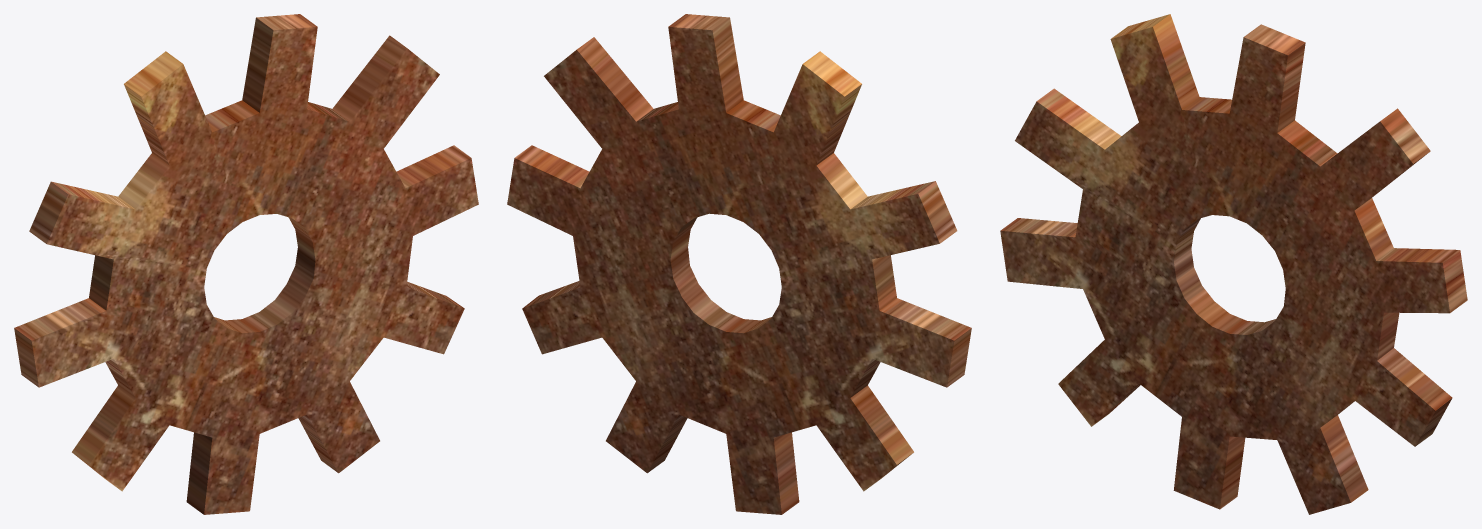
3 renders of one model, left to right at view 1: azimuth 30°, elevation 25°; view 2: azimuth 150°, elevation 25°; view 3: azimuth 330°, elevation 25°, orthographic.
Parts seen in each view (by area): view 1: Gear; view 2: Gear; view 3: Gear.
Part boxes in pixels (bbox=[...]): Gear: bbox=[14, 14, 478, 514]; Gear: bbox=[507, 14, 971, 514]; Gear: bbox=[1000, 14, 1467, 514].
Size of the model in its own units: 433 by 439 by 31.65.
Materials: 1 (1 with a texture image).
